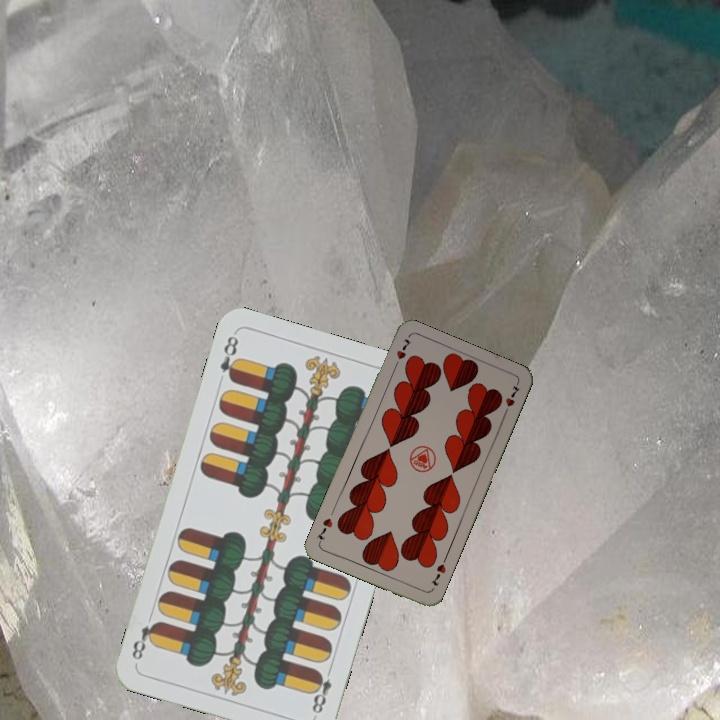E8: (307, 662, 335, 717), (216, 331, 243, 385)
H7: (389, 335, 413, 372), (427, 560, 448, 588)
